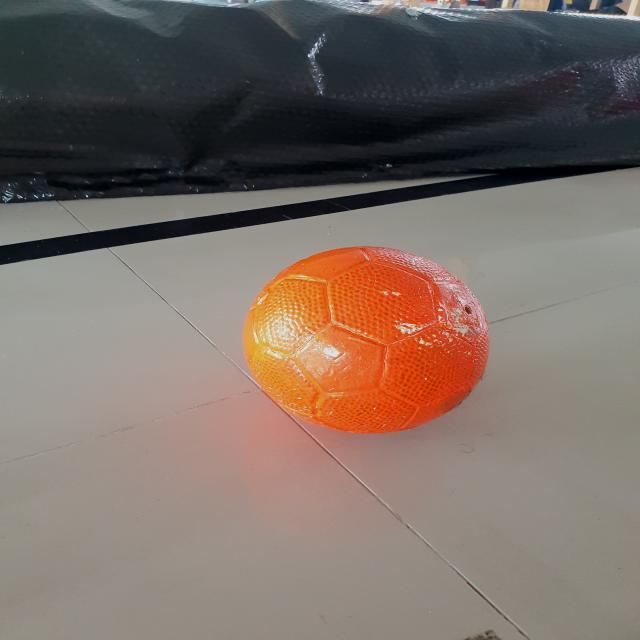bola: (235, 242, 498, 438)
